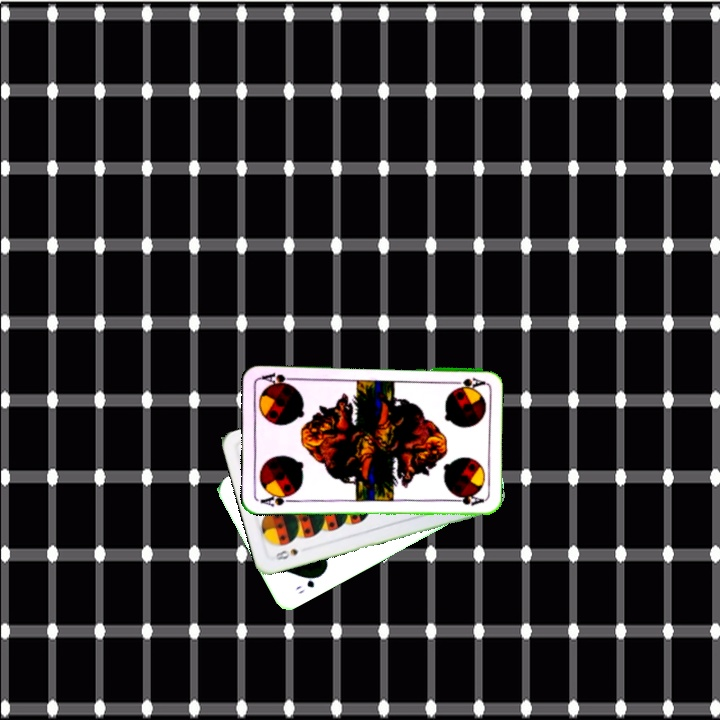GO: (291, 571, 324, 597)
S8: (272, 545, 301, 563)
SA: (256, 490, 297, 509), (446, 373, 486, 390)
